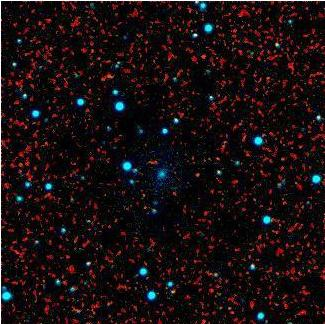star: (179, 161, 209, 191)
